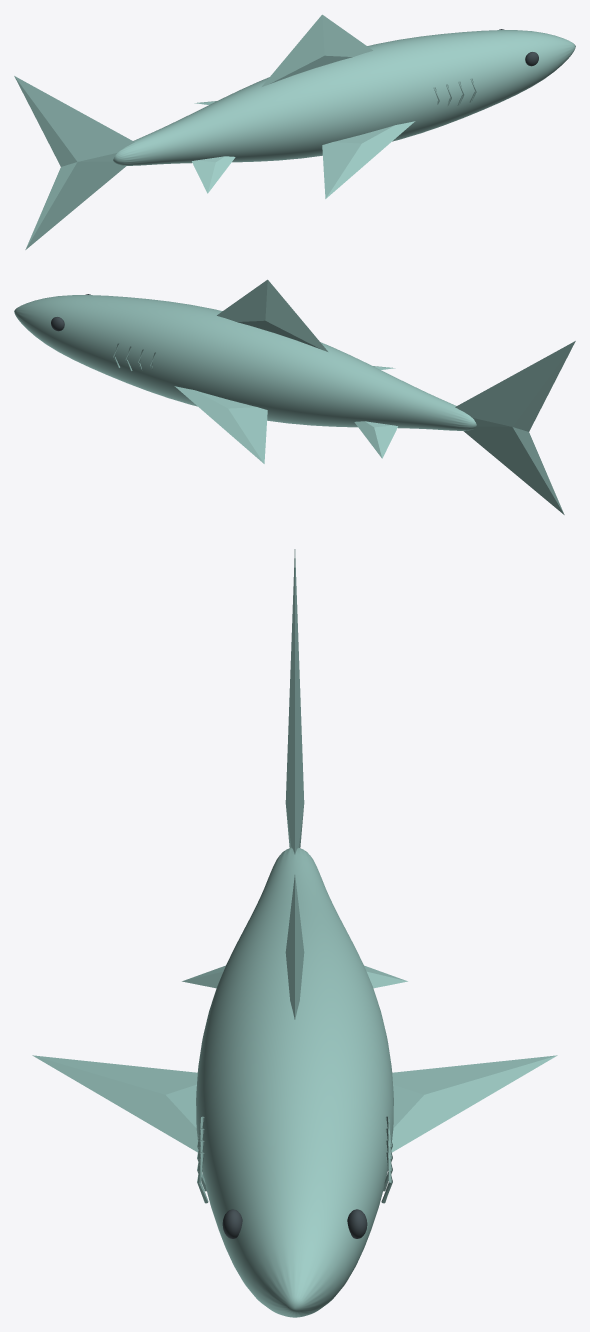
3 views of the same model, one above another, from view 1: azimuth 30°, elevation 25°; view 2: azimuth 150°, elevation 25°; view 3: azimuth 270°, elevation 25° (orthographic). The views are drawn at different scales.
Parts seen in each view (by area): view 1: Body, Tail, Dorsal, Pectoral, Pelvic; view 2: Body, Tail, Dorsal, Pectoral.001, Pelvic.001; view 3: Body, Pectoral.001, Pectoral, Tail, Dorsal.
Part boxes in pixels (x1,y1,x2,y2): Body: (113,30,575,165); Tail: (14,76,134,249); Dorsal: (262,14,372,86); Pectoral: (322,121,415,198); Pelvic: (192,156,235,193); Body: (14,295,476,430); Tail: (455,341,575,514); Dorsal: (217,279,327,351); Pectoral.001: (174,386,267,463); Pelvic.001: (354,421,397,458); Body: (196,847,393,1317); Pectoral.001: (391,1055,557,1152); Pectoral: (32,1055,198,1152); Tail: (285,549,304,854); Dorsal: (285,875,304,1019).
Bounding box in the file's own units: 252 × 76 × 102.
